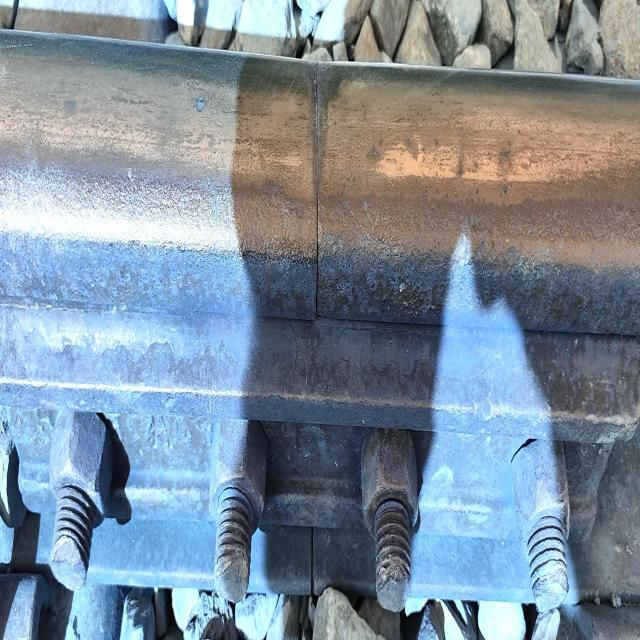Good Joint: (5, 305, 640, 605)
